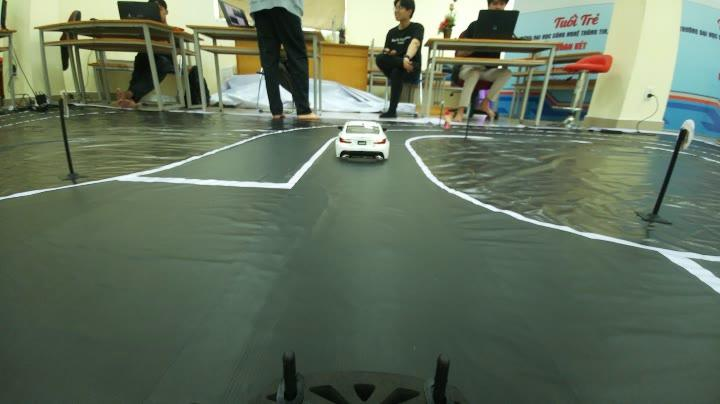car: (328, 113, 397, 168)
